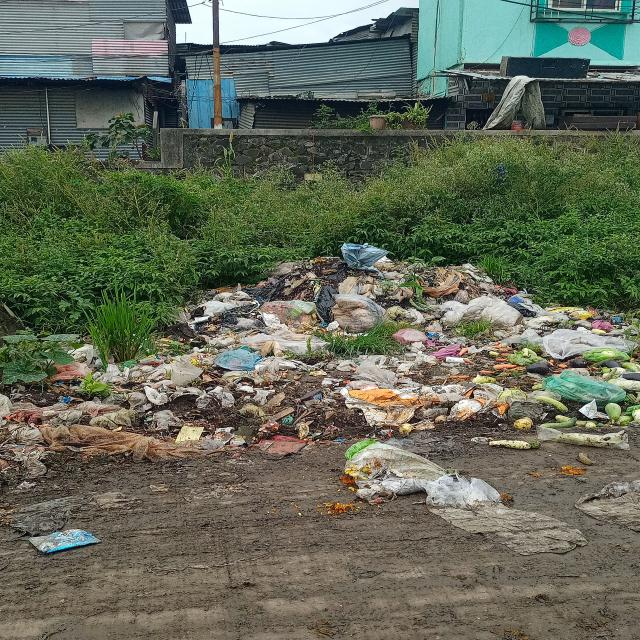garbage: (230, 245, 640, 446), (0, 326, 243, 475)
